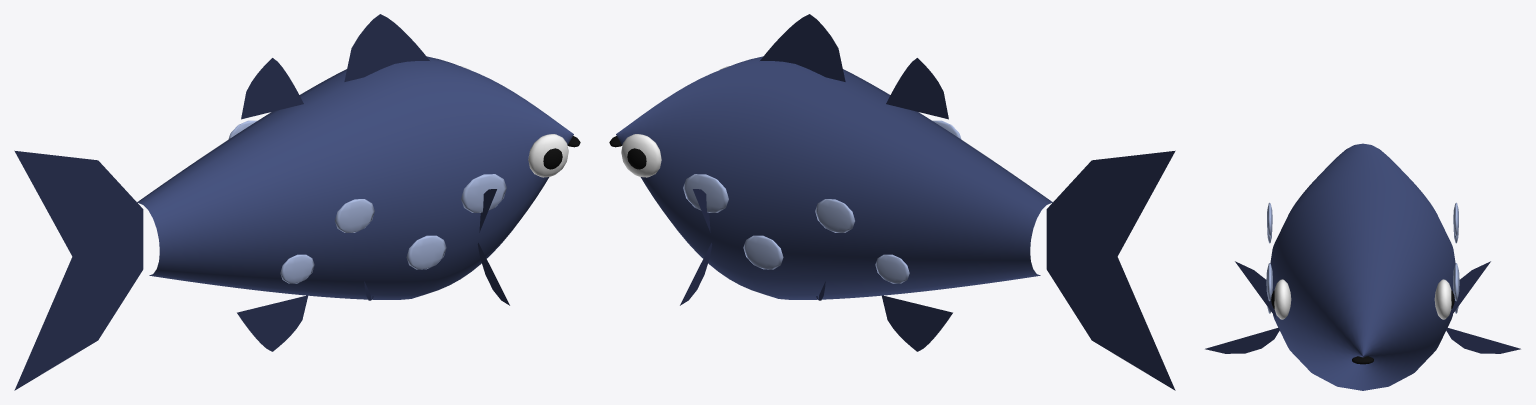
The model's file is coelacanth.glb.
3 views of the same model, side by side, from view 1: azimuth 30°, elevation 25°; view 2: azimuth 150°, elevation 25°; view 3: azimuth 270°, elevation 25° (orthographic). The views are drawn at different scales.
Parts seen in each view (by area): view 1: coelacanth; view 2: coelacanth; view 3: coelacanth.
Boxes of the visible parts, box(x1,y1,x2,y2) form: coelacanth: box(14, 14, 580, 390); coelacanth: box(609, 14, 1175, 390); coelacanth: box(1205, 143, 1520, 390).
Bounding box in the file's own units: 1.97 × 1.04 × 1.1.
